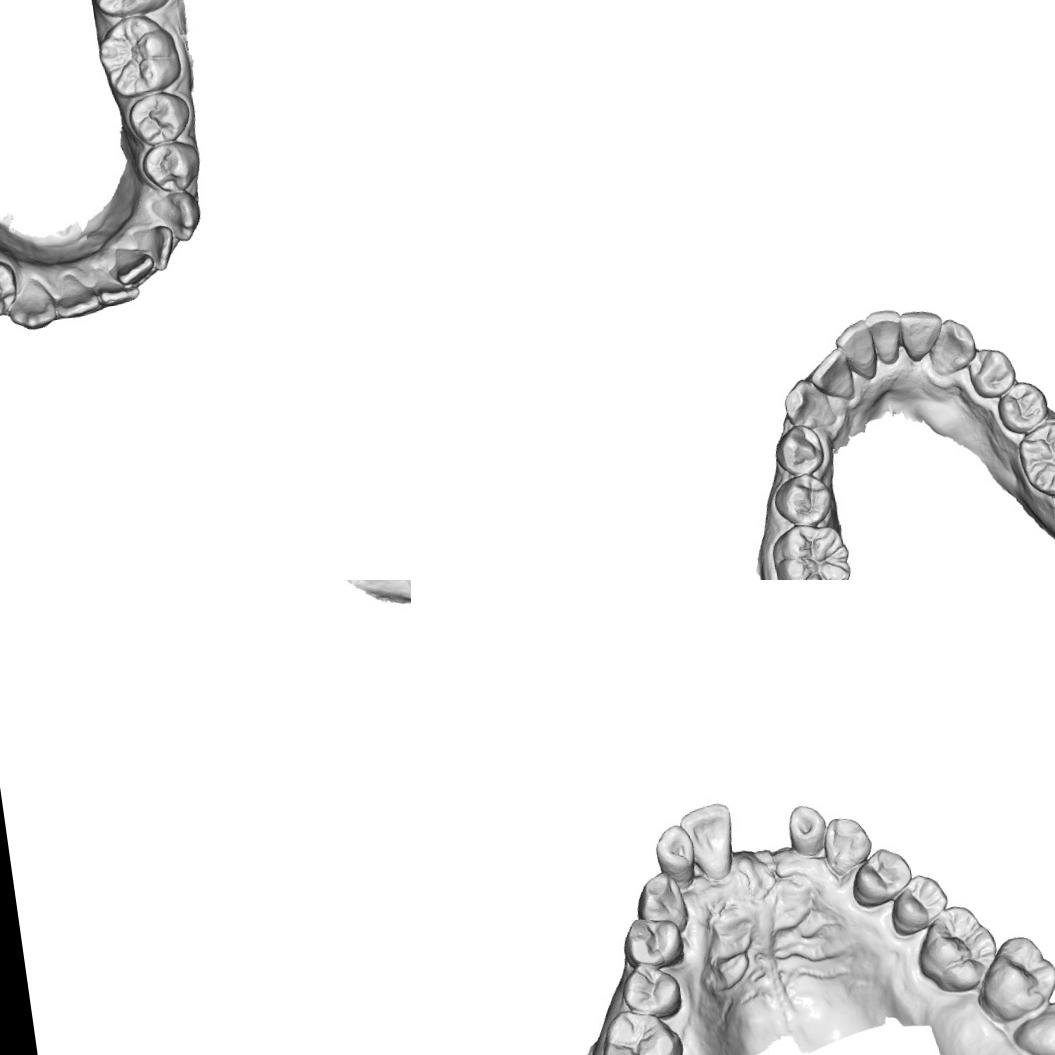canine: (630, 868, 691, 939), (818, 814, 878, 880), (2, 273, 62, 335), (924, 314, 980, 378), (146, 188, 206, 247), (780, 374, 838, 435)
incisor: (676, 800, 740, 886), (50, 262, 108, 324), (650, 822, 699, 894), (832, 315, 880, 384), (806, 345, 857, 404), (897, 306, 947, 366), (90, 260, 144, 312), (784, 802, 830, 861), (864, 306, 907, 368), (108, 240, 160, 290), (136, 219, 180, 276)
molar: (908, 899, 1002, 999), (91, 7, 184, 102), (968, 929, 1055, 1028), (766, 516, 855, 580), (593, 1002, 691, 1055), (1013, 411, 1055, 500), (1008, 994, 1055, 1055), (83, 0, 178, 21)
premolar: (618, 957, 686, 1026), (846, 844, 916, 911), (886, 869, 952, 938), (124, 85, 194, 149), (136, 134, 206, 196), (618, 912, 688, 973), (770, 469, 836, 532), (993, 378, 1052, 438), (770, 421, 828, 480), (964, 345, 1018, 401), (0, 256, 23, 324)
